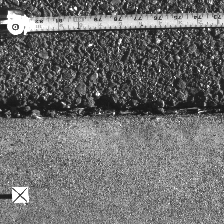circle: (6, 18, 24, 35)
crack: (1, 102, 223, 119)
square: (11, 186, 28, 203)
